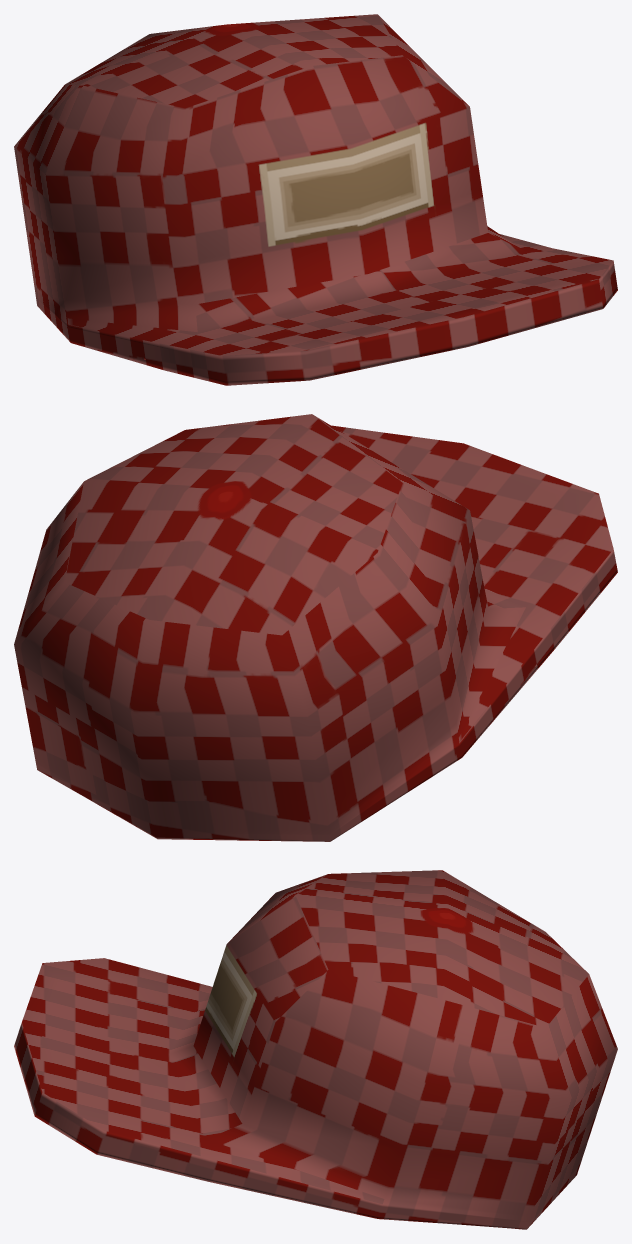
File: SM_Truck_Hat.fbx
3 views of the same model, one above another, from view 1: azimuth 30°, elevation 25°; view 2: azimuth 150°, elevation 25°; view 3: azimuth 270°, elevation 25° (orthographic). The views are drawn at different scales.
Visible parts, largest first — view 1: pCube1; view 2: pCube1; view 3: pCube1.
Boxes of the visible parts, x1=… form: pCube1: x1=14, y1=14, x2=617, y2=385; pCube1: x1=14, y1=414, x2=617, y2=841; pCube1: x1=14, y1=870, x2=617, y2=1229.
Size of the model in its own units: 1.46 by 1.12 by 2.16.
1 material, 1 textured.
